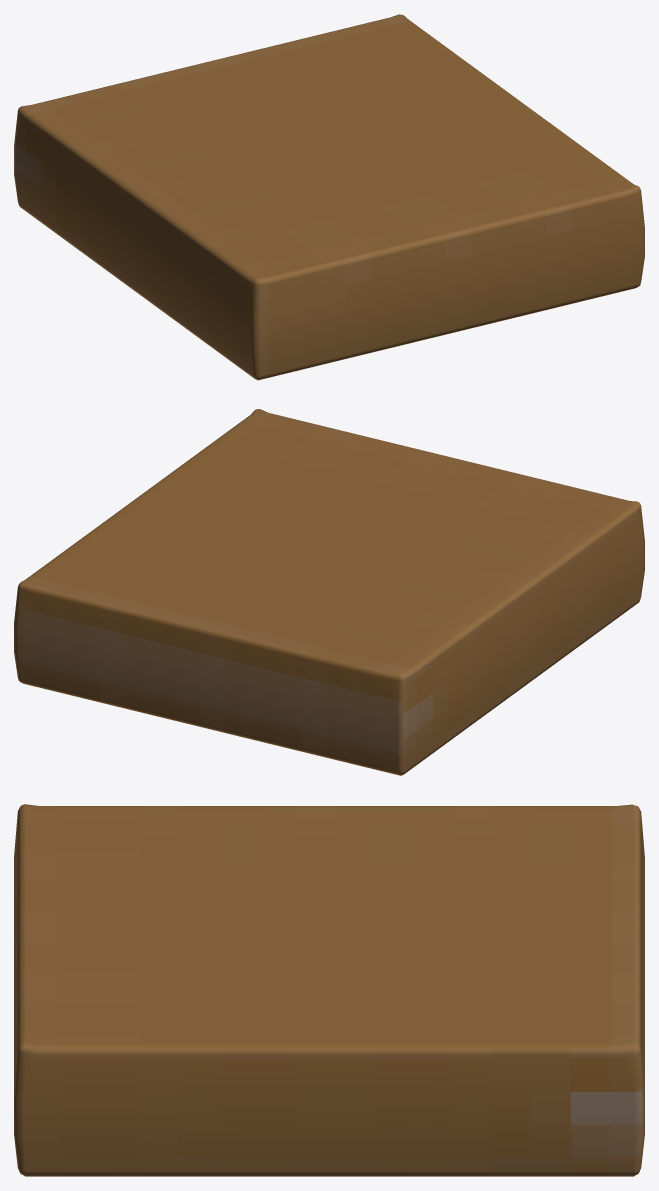
File: item_un_chaircushion01.gltf
3 views of the same model, one above another, from view 1: azimuth 30°, elevation 25°; view 2: azimuth 150°, elevation 25°; view 3: azimuth 270°, elevation 25° (orthographic). The views are drawn at different scales.
Parts seen in each view (by area): view 1: item_un_chaircushion01; view 2: item_un_chaircushion01; view 3: item_un_chaircushion01.
Part boxes in pixels (x1,y1,x2,y2): item_un_chaircushion01: (14,14,644,380); item_un_chaircushion01: (14,409,644,775); item_un_chaircushion01: (14,804,644,1176).
Bounding box in the file's own units: 0.4049 × 0.1017 × 0.4353.
Materials: 1 (1 with a texture image).
